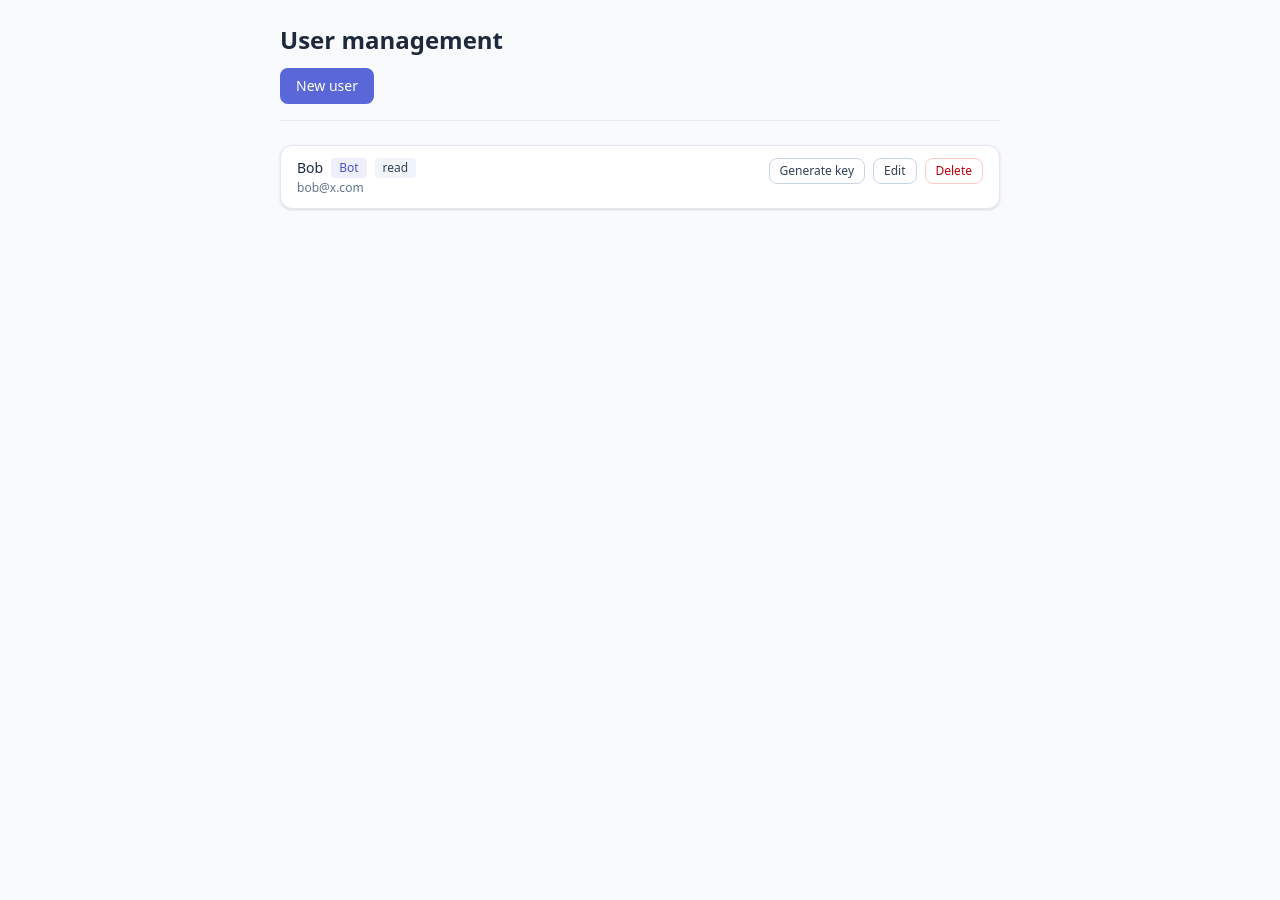
Test: UserManagement create flow › offers a human user without multi_user, before any human exists
The image size is (1280, 900).
Expected: the text "Bob" is shown, [297,158,323,178]
Click the button "New user" at (327, 86), box [280,68,374,104]
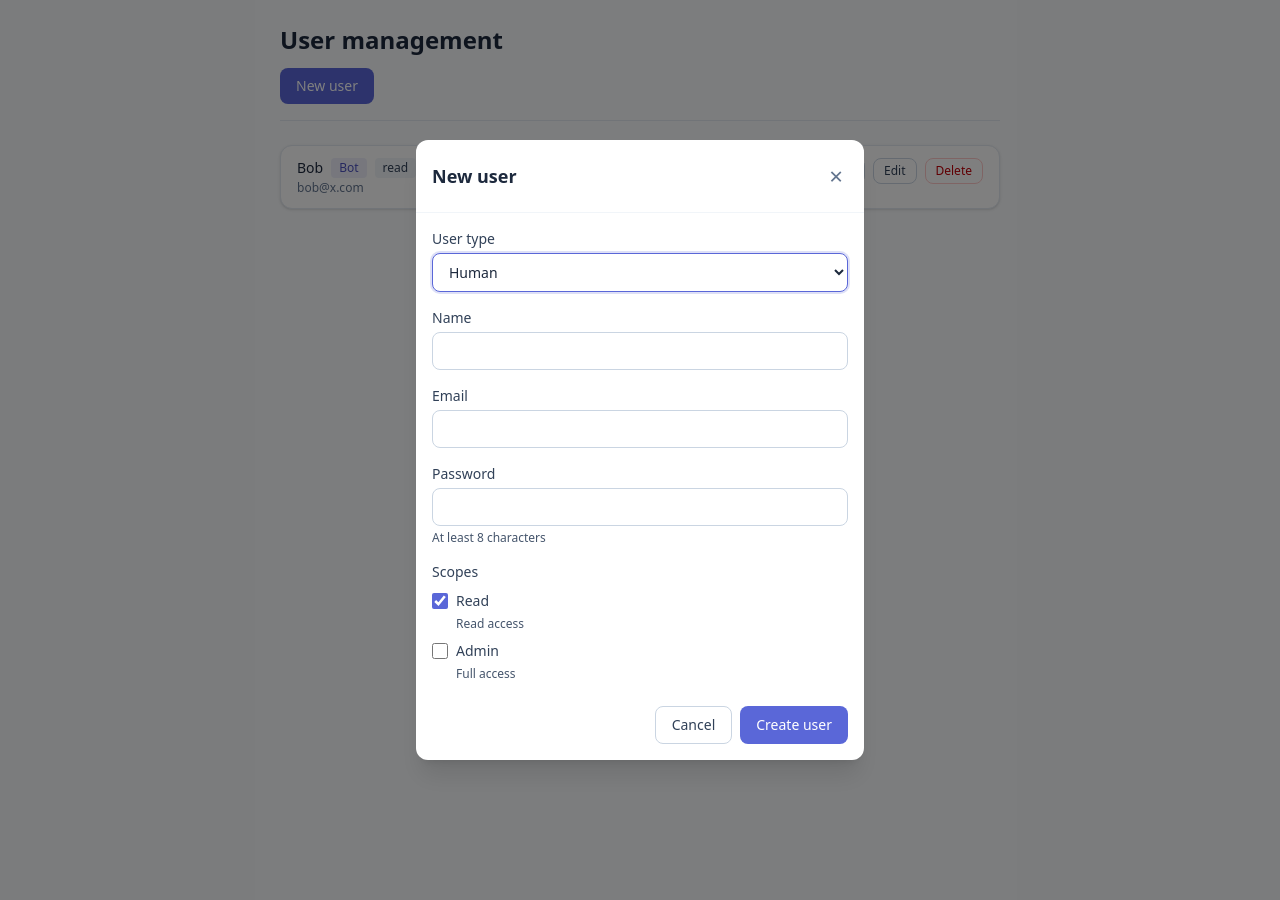
Expected: the dropdown labelled "User type" shows "Human", [432,253,848,292]
